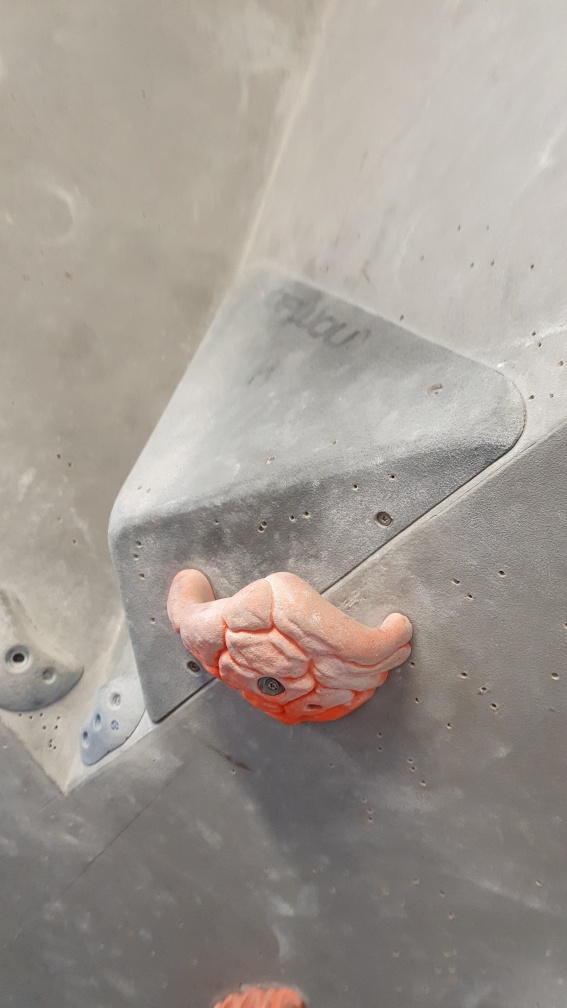Jug: (166, 564, 414, 729)
